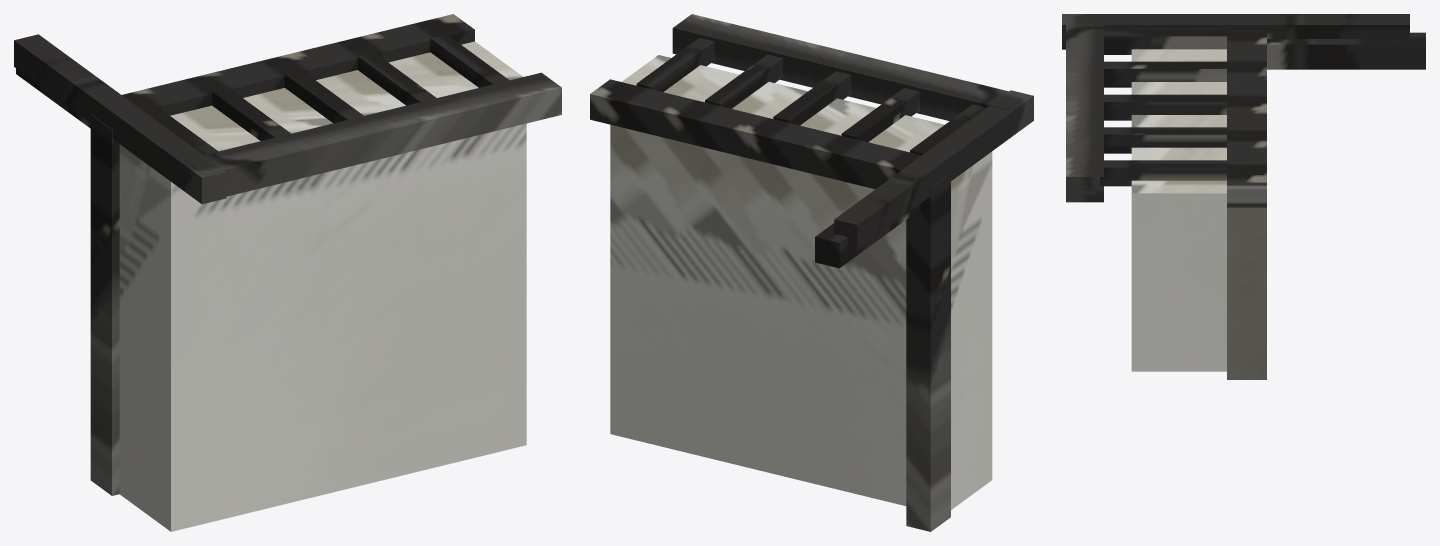
Rendered from pz_bed_bedding_01_large_fancy_0_1.obj.
3 renders of one model, left to right at view 1: azimuth 30°, elevation 25°; view 2: azimuth 150°, elevation 25°; view 3: azimuth 270°, elevation 25°, orthographic. The views are drawn at different scales.
Bounding box in the file's own units: 0.975 × 0.985 × 0.915.
1 material, 1 textured.
